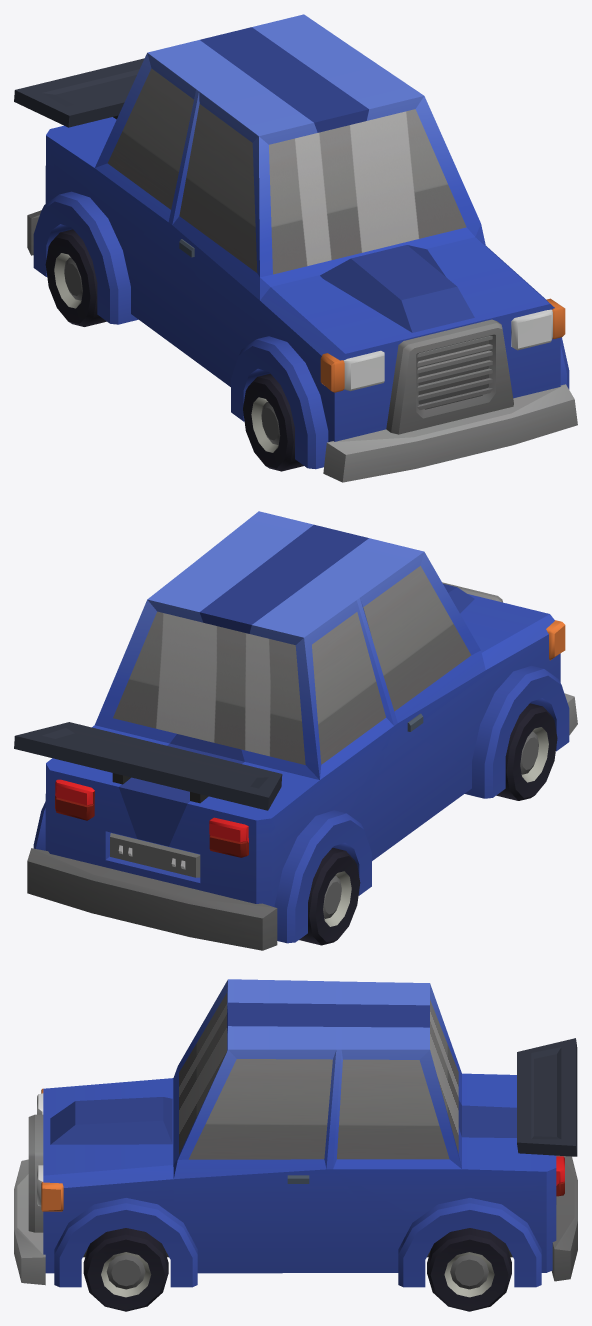
Rendered from SportCar_13.glb.
3 views of the same model, one above another, from view 1: azimuth 30°, elevation 25°; view 2: azimuth 150°, elevation 25°; view 3: azimuth 270°, elevation 25° (orthographic). The views are drawn at different scales.
Parts seen in each view (by area): view 1: SportCar_13, Wheel_fr, Wheel_br; view 2: SportCar_13, Wheel_br, Wheel_fr; view 3: SportCar_13, Wheel_fl, Wheel_bl.
Boxes of the visible parts, x1=… form: SportCar_13: x1=14, y1=14, x2=577, y2=482; Wheel_fr: x1=243, y1=373, x2=303, y2=471; Wheel_br: x1=45, y1=229, x2=106, y2=326; SportCar_13: x1=14, y1=511, x2=577, y2=950; Wheel_br: x1=299, y1=847, x2=360, y2=945; Wheel_fr: x1=496, y1=703, x2=557, y2=800; SportCar_13: x1=14, y1=979, x2=577, y2=1287; Wheel_fl: x1=83, y1=1228, x2=168, y2=1311; Wheel_bl: x1=427, y1=1228, x2=511, y2=1311.
Bounding box in the file's own units: 1.12 × 1.1 × 2.33.
7 materials, 7 textured.
